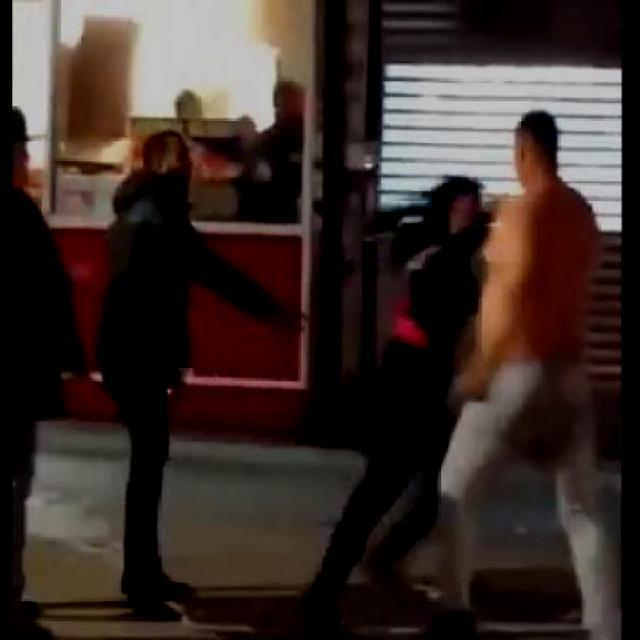fight: (316, 110, 601, 630)
